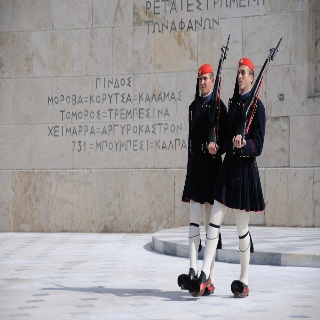rifle: (234, 37, 284, 140), (206, 34, 231, 149)
